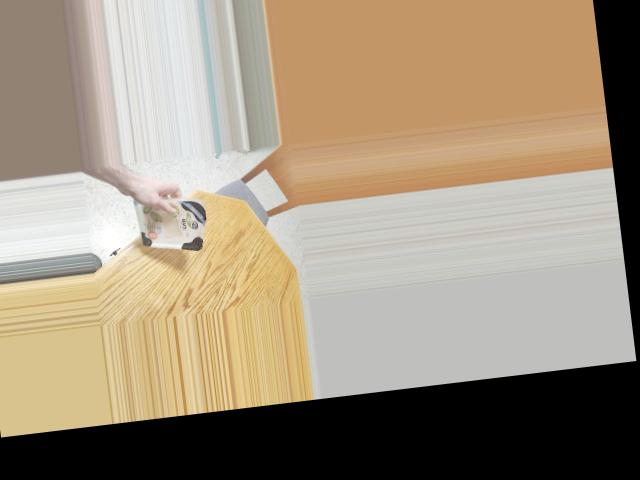cheese: (124, 193, 213, 252)
